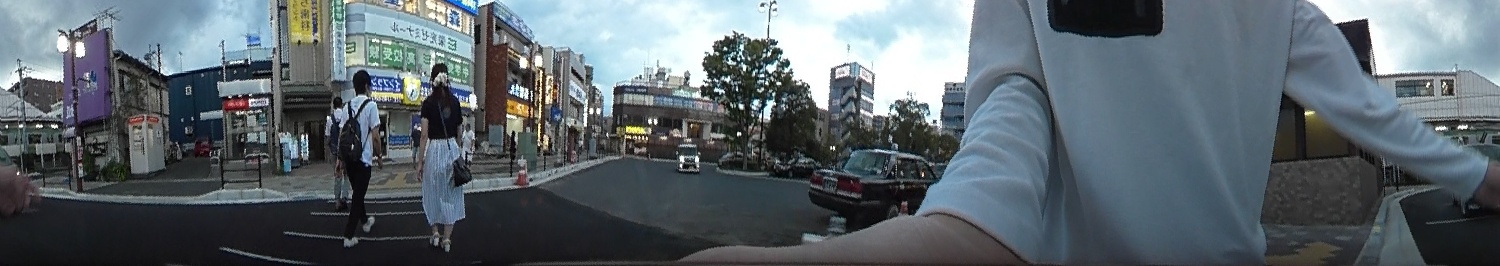person: (411, 59, 473, 255), (346, 66, 385, 244), (318, 88, 359, 203)
